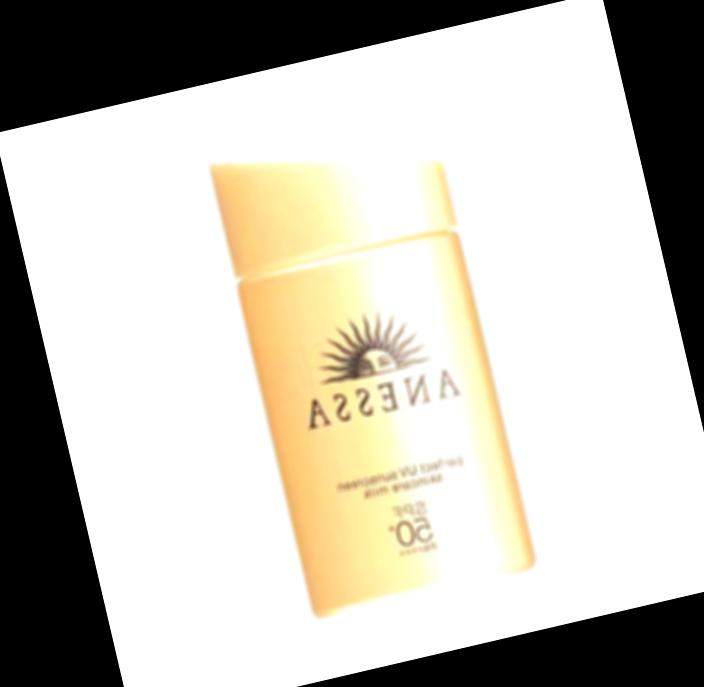cosmetic: (204, 108, 534, 615)
